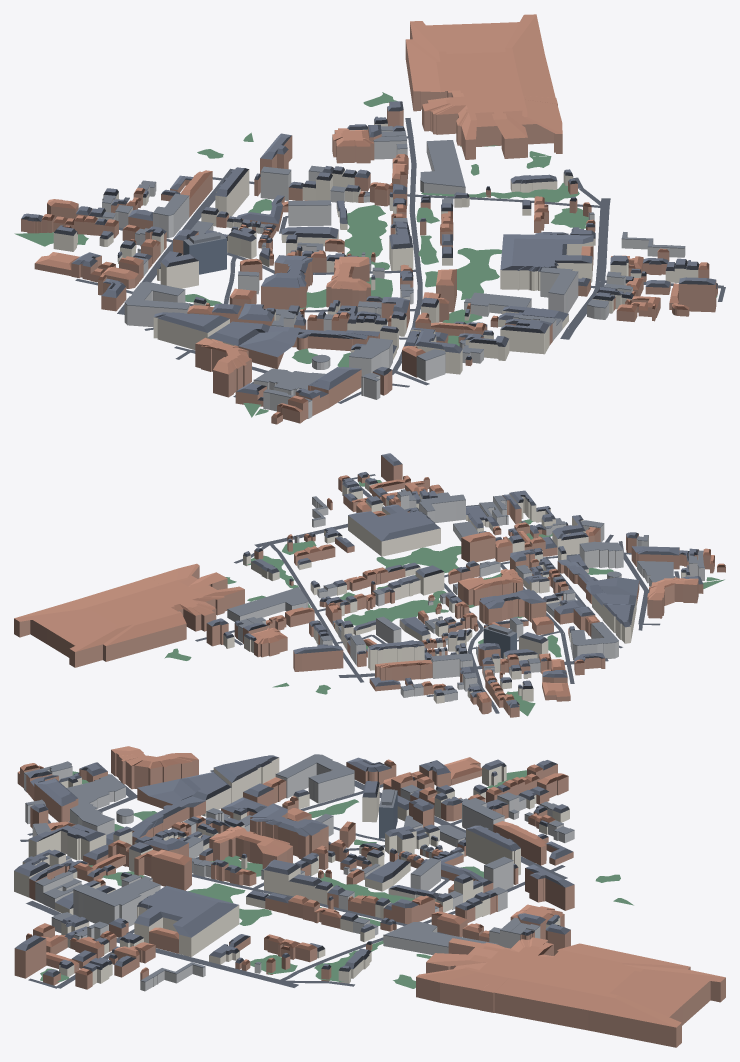
Rendered from tile_5_0_lod0.glb.
The picture shows the model from 3 angles, top to bottom: view 1: azimuth 30°, elevation 25°; view 2: azimuth 150°, elevation 25°; view 3: azimuth 270°, elevation 25°; orthographic projection. The views are drawn at different scales.
Visible parts, largest first — view 1: TileRoot; view 2: TileRoot; view 3: TileRoot.
Part boxes in pixels (box(x1,y1,x2,y2)): TileRoot: box(14, 14, 725, 424); TileRoot: box(14, 453, 725, 717); TileRoot: box(14, 746, 725, 1047).
Size of the model in its own units: 527 by 37.61 by 533.
